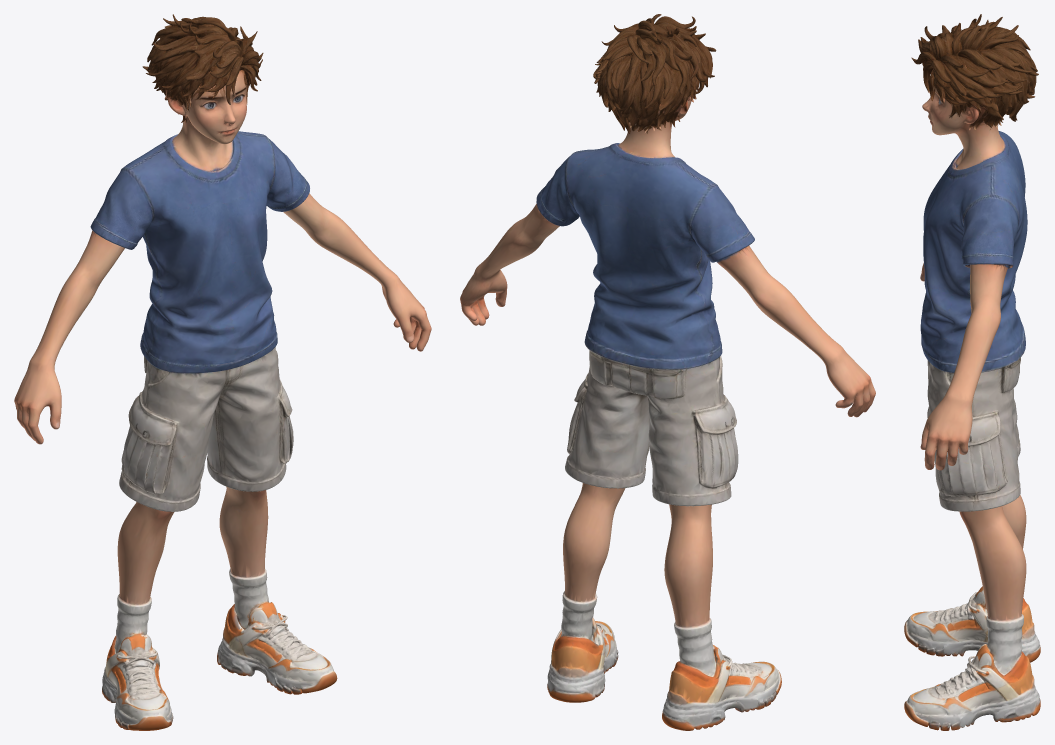
File: patient.glb
The picture shows the model from 3 angles, left to right: view 1: azimuth 30°, elevation 25°; view 2: azimuth 150°, elevation 25°; view 3: azimuth 270°, elevation 25°; orthographic projection. The views are drawn at different scales.
Parts seen in each view (by area): view 1: teen-character; view 2: teen-character; view 3: teen-character.
Boxes of the visible parts, x1,y1,x2,y2 form: teen-character: (14, 14, 431, 730); teen-character: (460, 14, 875, 730); teen-character: (904, 14, 1040, 730).
Size of the model in its own units: 1.03 by 1.65 by 0.3104.
Materials: 1 (1 with a texture image).
